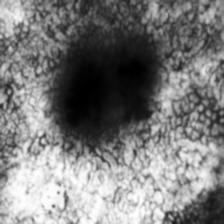Potentially Malignant Skin Tumors: (66, 53, 142, 129)
